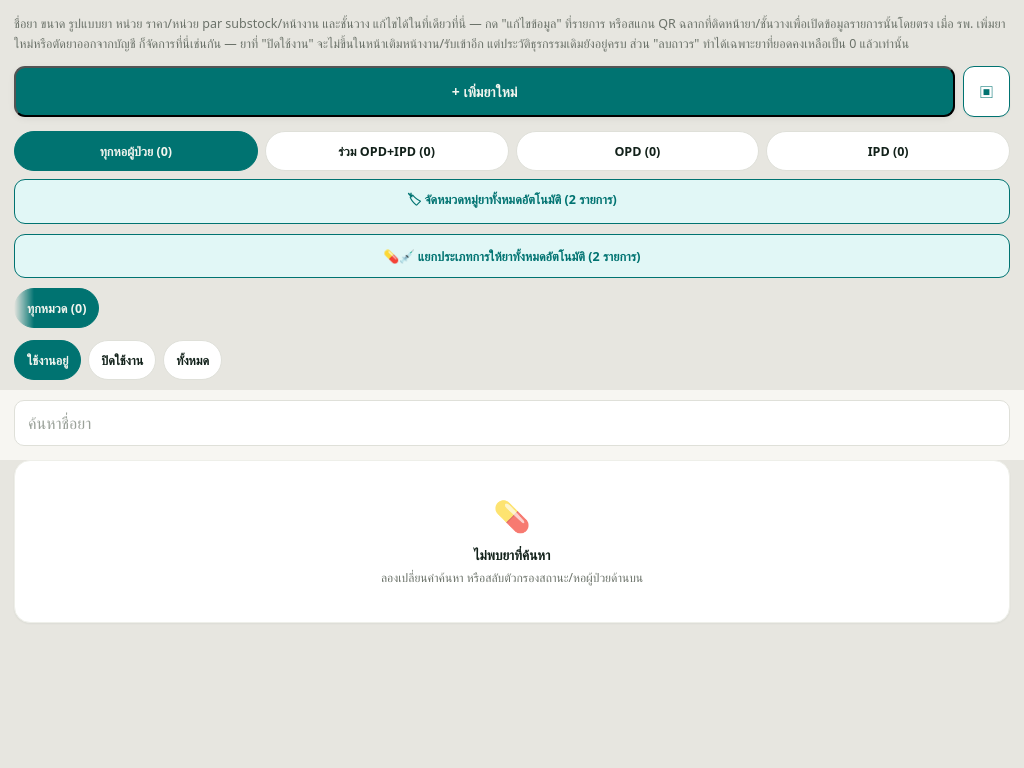
it: MedsScreen — bulk-delete button count regression › shows only the REMOVABLE count (floor===0 && subQty===0), not every inactive med in the filter
Click the button "ปิดใช้งาน". click: point(122, 360)
box: [88,340,156,380]
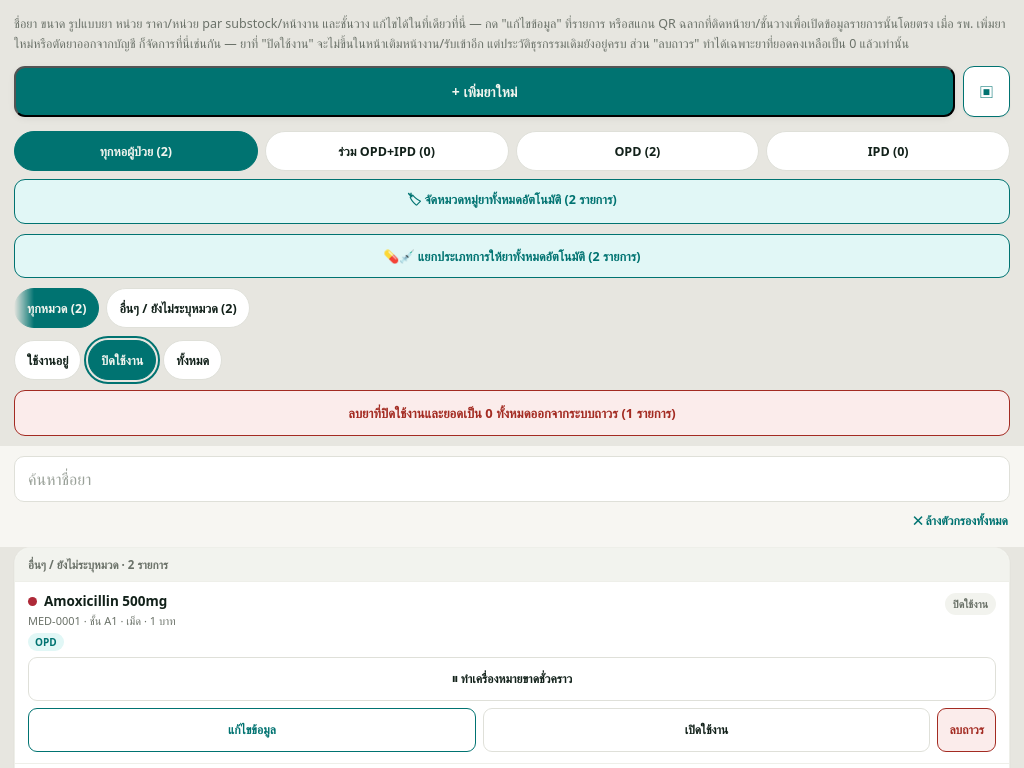
Check: the button "ลบยาที่ปิดใช้งานและยอดเป็น 0 ทั้งหมดออกจากระบบถาวร (1 รายการ)" is shown, box [14,390,1010,436]
